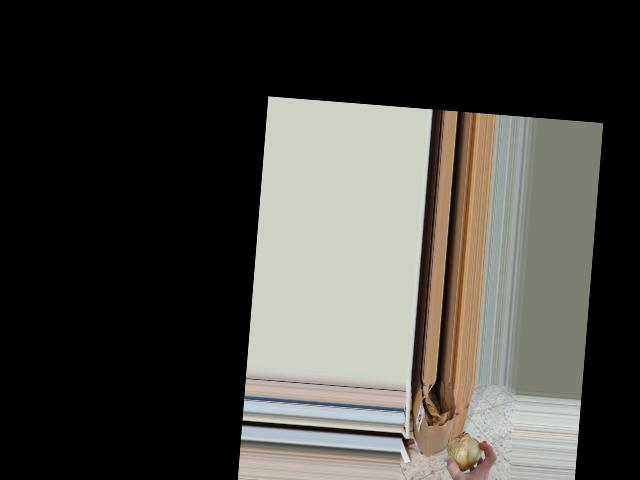onion: (443, 428, 485, 476)
